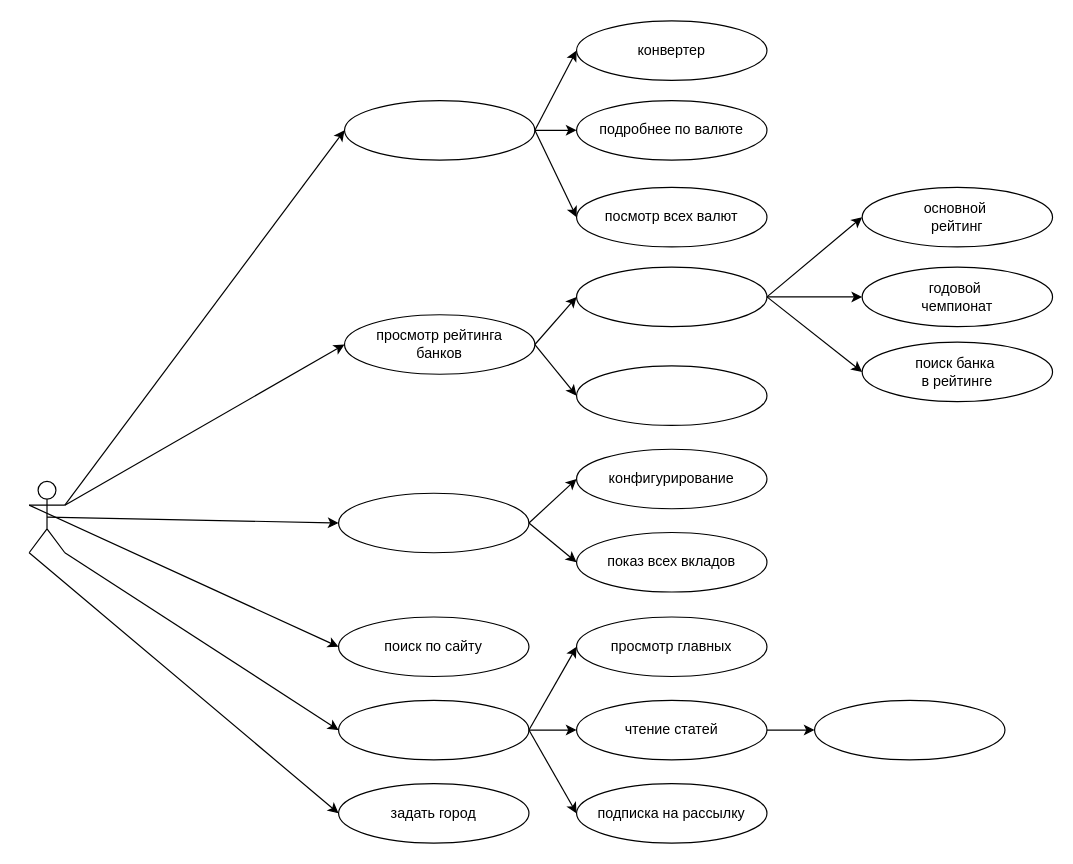
This 1073x864 diagram has some shape labels left out. The box of each missing label's shape, as (x1, y1, x2, y2) in pixels:
подбор накопительного счёта: (337, 492, 529, 553)
поделиться: (813, 699, 1005, 760)
просмотр курса валют: (343, 99, 535, 160)
просмотр новостей: (337, 699, 529, 760)
просмотр отзывов: (575, 365, 767, 425)
сортировка рейтинга: (575, 266, 767, 327)
